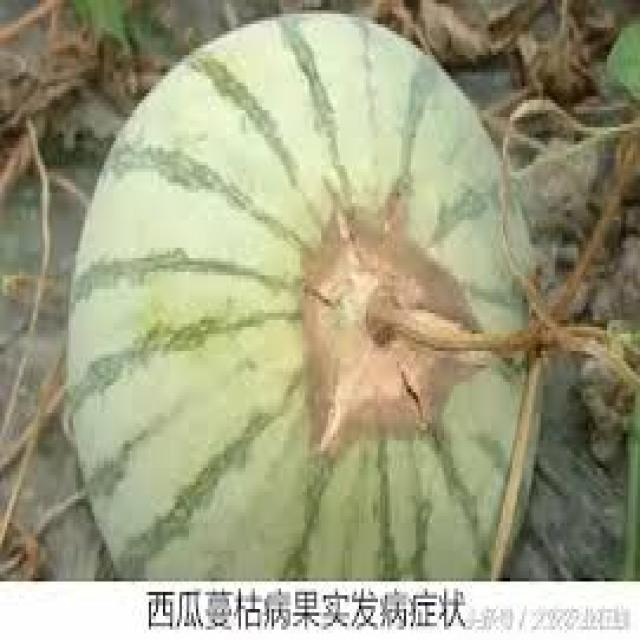organic waste: (63, 4, 546, 578)
